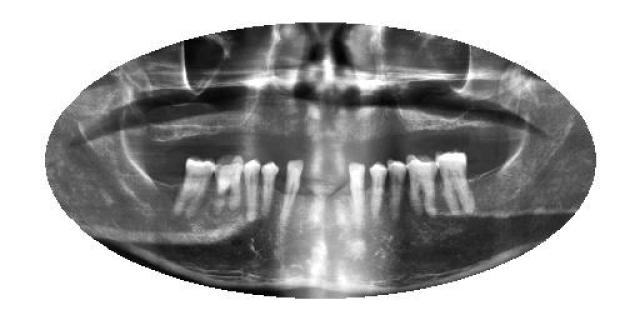Cavity: (406, 152, 439, 218), (214, 153, 245, 215)
